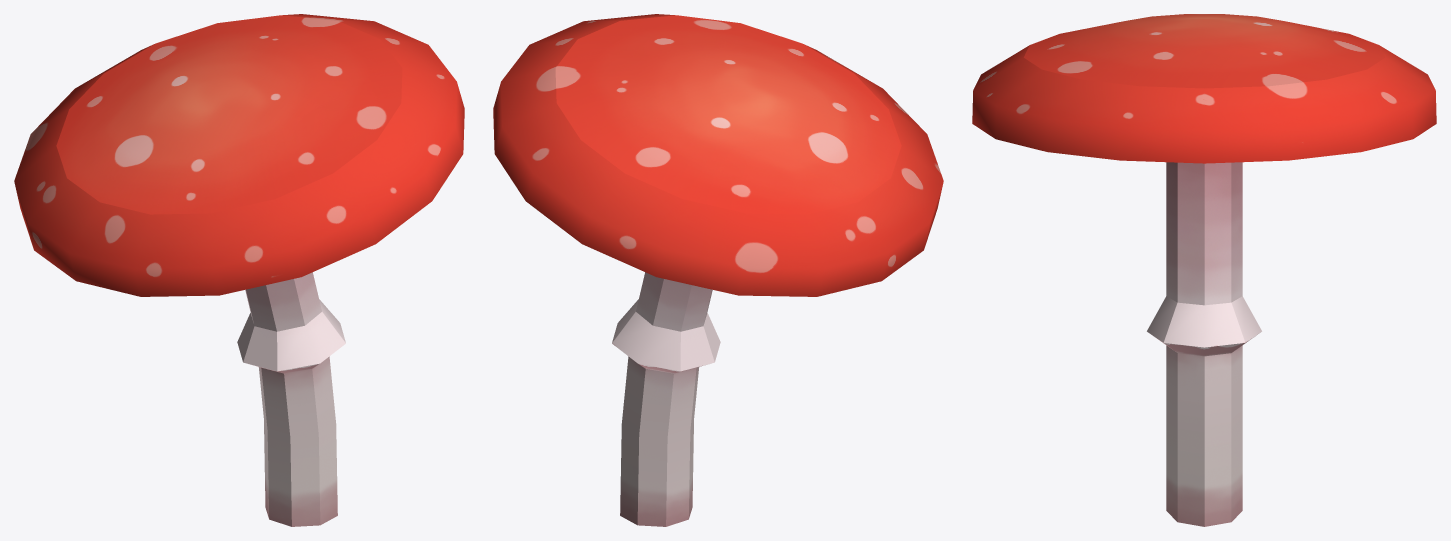
File: env_flyMush_export_01.fbx
The picture shows the model from 3 angles, left to right: view 1: azimuth 30°, elevation 25°; view 2: azimuth 150°, elevation 25°; view 3: azimuth 270°, elevation 25°; orthographic projection.
Parts seen in each view (by area): view 1: pCylinder12; view 2: pCylinder12; view 3: pCylinder12.
Part boxes in pixels (box(x1,y1,x2,y2)): pCylinder12: box(14, 14, 464, 526); pCylinder12: box(493, 14, 943, 526); pCylinder12: box(972, 14, 1436, 526).
Size of the model in its own units: 4.67 by 5.24 by 4.76.
1 material, 1 textured.
